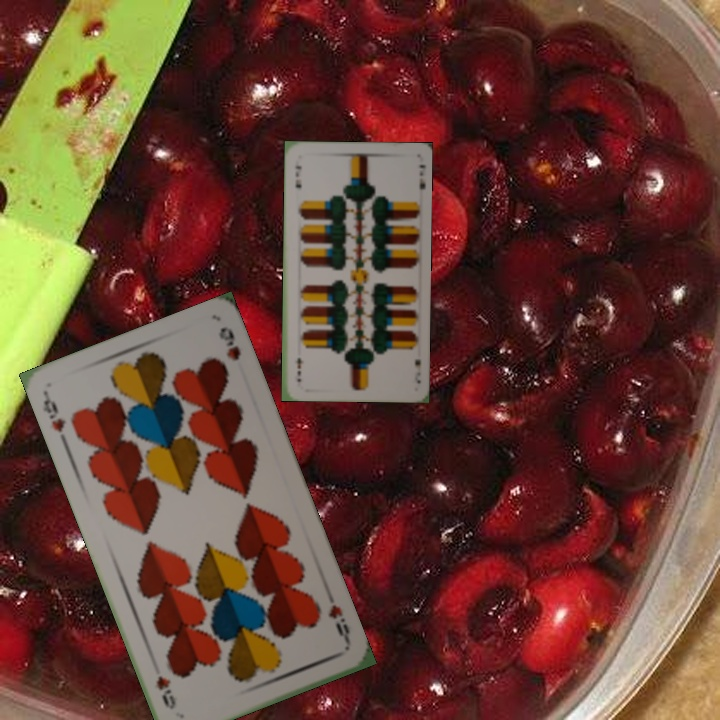E7: (410, 355, 423, 386), (291, 161, 304, 190)
H9: (324, 600, 353, 647), (39, 389, 68, 435)
